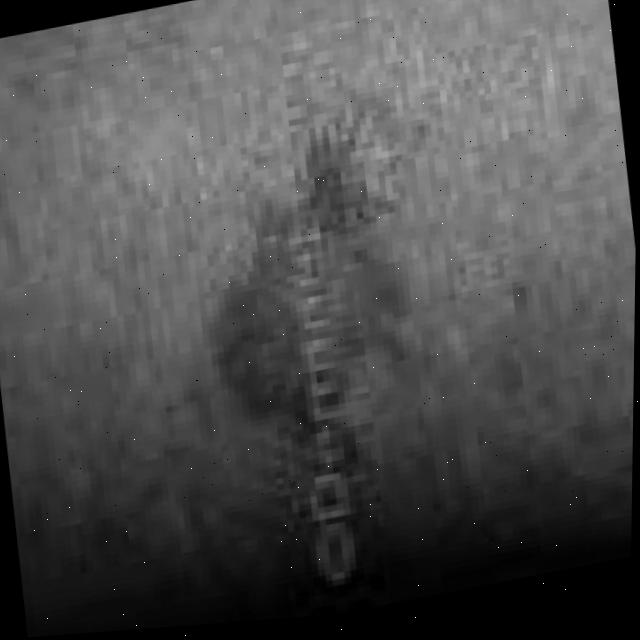Melasma: (194, 126, 382, 370)
